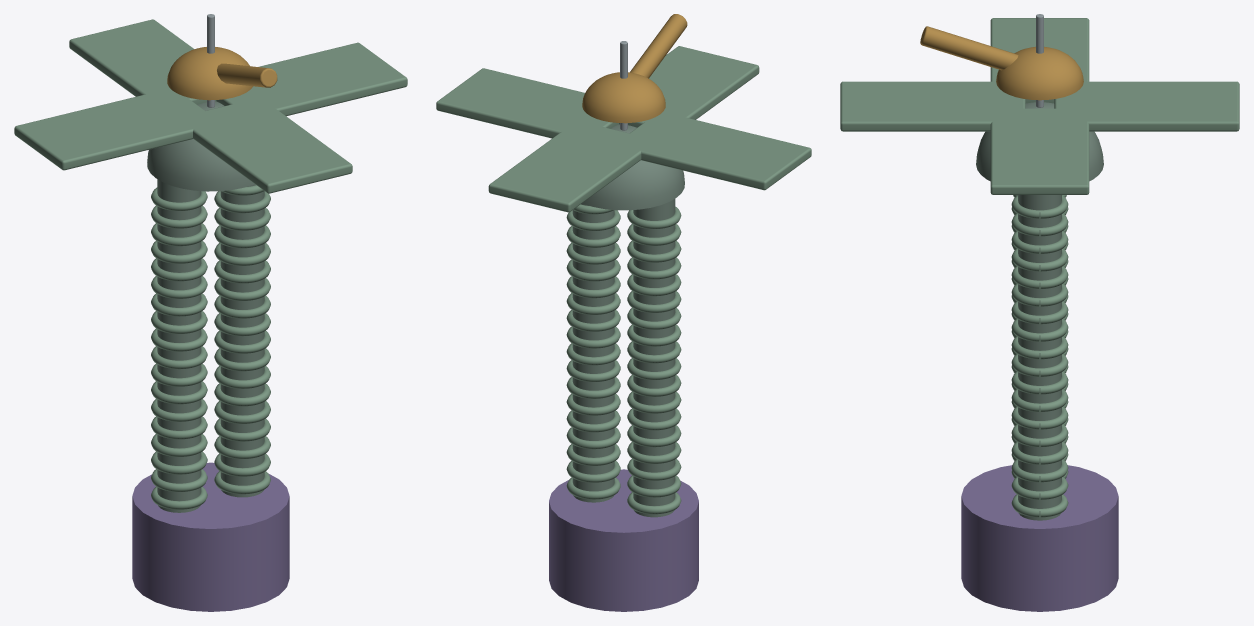
3 views of the same model, side by side, from view 1: azimuth 30°, elevation 25°; view 2: azimuth 150°, elevation 25°; view 3: azimuth 270°, elevation 25° (orthographic). The views are drawn at different scales.
Parts seen in each view (by area): view 1: Foundation drum, Radial collector panel.003, Radial collector panel.002, Solar matrix pillar, Radial collector panel, Solar matrix pillar.001, Radial collector panel.001, Solar matrix crown, Defensive head cupola, Defensive head barrel, Solar matrix coil.002, Solar matrix coil.006 (+33 smaller); view 2: Foundation drum, Radial collector panel.001, Radial collector panel.002, Radial collector panel, Solar matrix pillar, Solar matrix pillar.001, Radial collector panel.003, Solar matrix crown, Defensive head cupola, Defensive head barrel, Solar matrix coil.003, Solar matrix coil.006 (+33 smaller); view 3: Foundation drum, Radial collector panel.001, Radial collector panel.003, Radial collector panel, Solar matrix pillar.001, Radial collector panel.002, Defensive head cupola, Defensive head barrel, Solar matrix crown, Solar matrix coil.027, Solar matrix coil.020, Solar matrix coil.018 (+15 smaller).
Part boxes in pixels (x1,y1,x2,y2): Foundation drum: (132, 462, 289, 611); Radial collector panel.003: (180, 98, 352, 193); Radial collector panel.002: (14, 92, 218, 170); Solar matrix pillar: (157, 179, 201, 512); Radial collector panel: (216, 42, 407, 116); Solar matrix pillar.001: (220, 184, 264, 497); Radial collector panel.001: (69, 19, 216, 104); Solar matrix crown: (147, 101, 254, 191); Defensive head cupola: (167, 47, 252, 100); Defensive head barrel: (217, 63, 277, 87); Solar matrix coil.002: (151, 451, 207, 474); Solar matrix coil.006: (151, 381, 207, 404); Foundation drum: (549, 469, 698, 611); Radial collector panel.001: (488, 121, 653, 212); Radial collector panel.002: (630, 113, 811, 190); Radial collector panel: (436, 68, 618, 138); Solar matrix pillar: (633, 199, 675, 517); Solar matrix pillar.001: (572, 203, 614, 502); Radial collector panel.003: (619, 46, 759, 127); Solar matrix crown: (582, 124, 684, 210); Defensive head cupola: (582, 72, 665, 123); Defensive head barrel: (630, 14, 687, 78); Solar matrix coil.003: (627, 442, 681, 463); Solar matrix coil.006: (627, 391, 681, 413); Foundation drum: (961, 465, 1118, 611); Radial collector panel.001: (1054, 81, 1239, 131); Radial collector panel.003: (840, 81, 1025, 131); Radial collector panel: (990, 108, 1089, 194); Solar matrix pillar.001: (1018, 195, 1061, 520); Radial collector panel.002: (990, 18, 1089, 103); Defensive head cupola: (996, 46, 1083, 100); Defensive head barrel: (920, 26, 1018, 70); Solar matrix crown: (976, 102, 1103, 181); Solar matrix coil.027: (1011, 336, 1068, 359); Solar matrix coil.020: (1011, 459, 1068, 482); Solar matrix coil.018: (1011, 494, 1068, 517).
Size of the model in its own units: 2.18 by 3.4 by 2.18.
